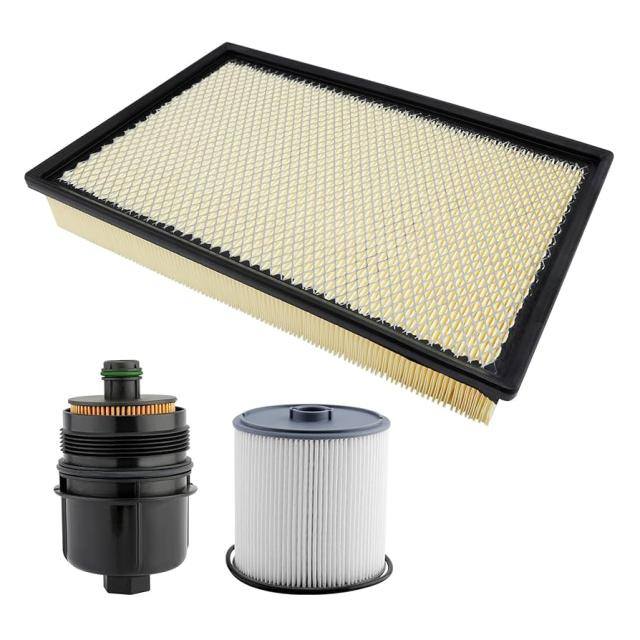air_filter: (19, 38, 616, 430)
oil_filter: (218, 396, 396, 592), (52, 356, 196, 598)
